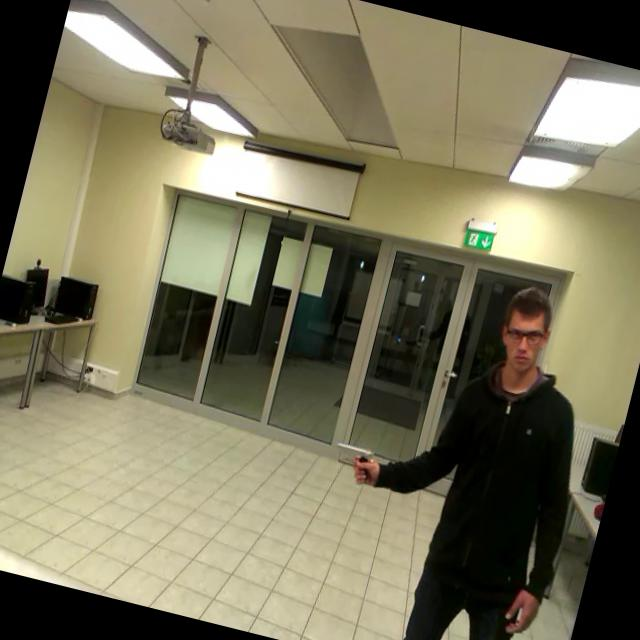handgun: (319, 422, 386, 501)
